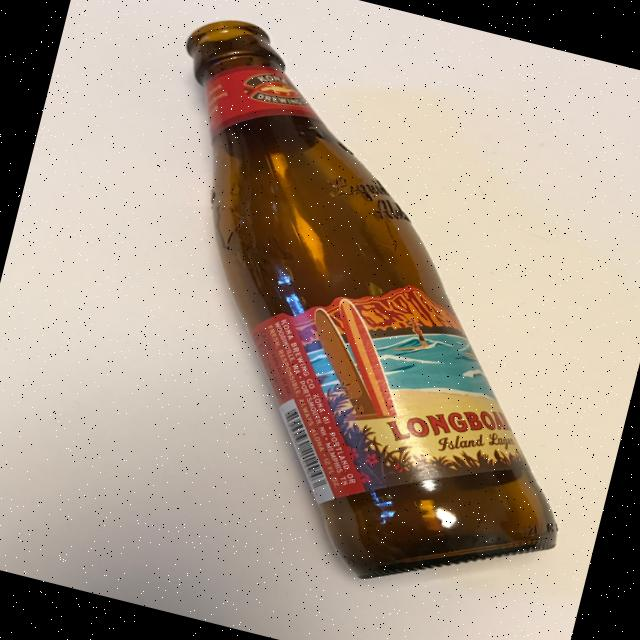glass: (69, 8, 640, 623)
